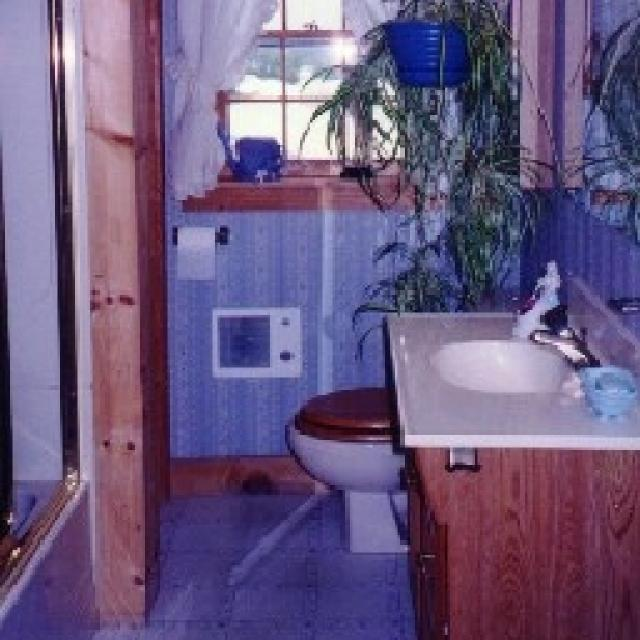2001: (215, 0, 405, 172)
cabinet door: (405, 445, 638, 635), (402, 448, 638, 635)
counter bottom: (385, 268, 635, 440)
curtain crop: (162, 0, 275, 198), (168, 2, 278, 198)
faucet handle: (535, 320, 595, 365)
floor -X: (95, 495, 405, 638)
heater: (208, 308, 300, 375), (210, 305, 295, 375)
mirror crop: (518, 0, 635, 238)
partially occluded toilet: (282, 380, 402, 548)
pitcher: (218, 115, 282, 178)
plant -x: (292, 0, 538, 342)
sink basin: (378, 268, 638, 448), (430, 338, 560, 390)
soap bottle: (602, 372, 628, 388)
soap dispenser: (580, 365, 630, 415)
statue: (508, 258, 562, 332)
toilet bowl: (282, 382, 405, 550)
toilet paper: (168, 222, 218, 280)
watering can: (215, 128, 282, 180)
